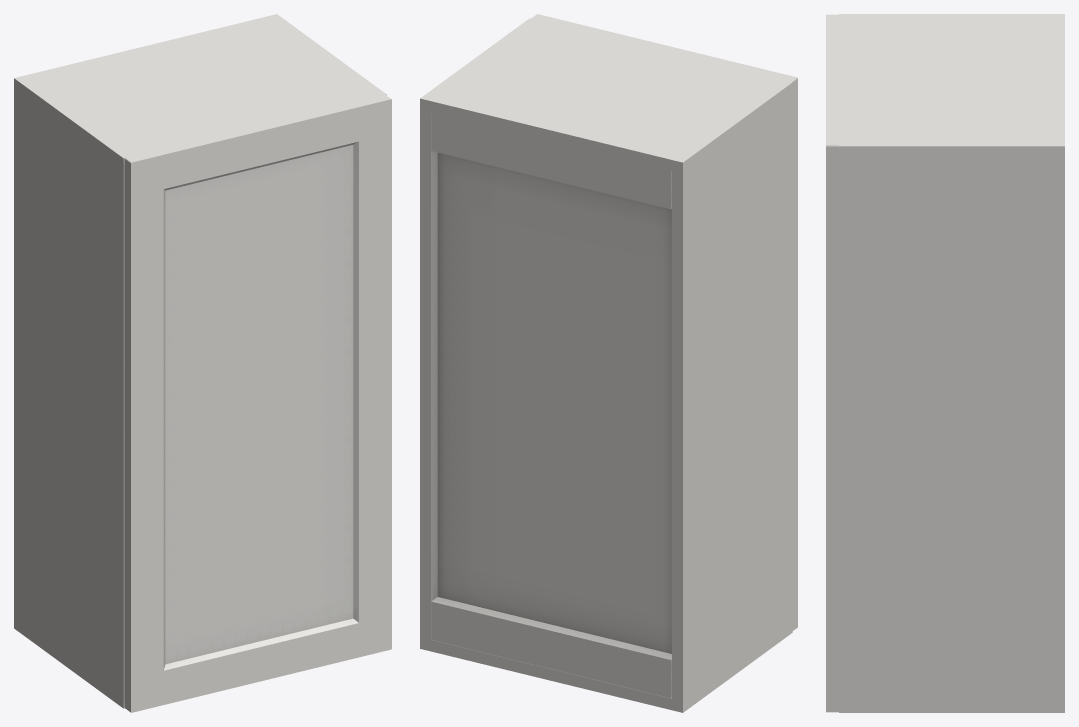
The model's file is wall-1-door-doors-on.glb.
3 renders of one model, left to right at view 1: azimuth 30°, elevation 25°; view 2: azimuth 150°, elevation 25°; view 3: azimuth 270°, elevation 25°, orthographic. The views are drawn at different scales.
Visible parts, largest first — view 1: part_15, part_0; view 2: part_0, part_15; view 3: part_0, part_15.
Part boxes in pixels (left/top/right/bottom): part_15: left=124, top=94, right=391, bottom=712; part_0: left=14, top=14, right=386, bottom=708; part_0: left=420, top=18, right=792, bottom=712; part_15: left=531, top=14, right=797, bottom=630; part_0: left=839, top=14, right=1064, bottom=712; part_15: left=826, top=14, right=838, bottom=712.
Bounding box in the file's own units: 0.4572 × 0.9144 × 0.3492.
2 materials, 2 textured.
